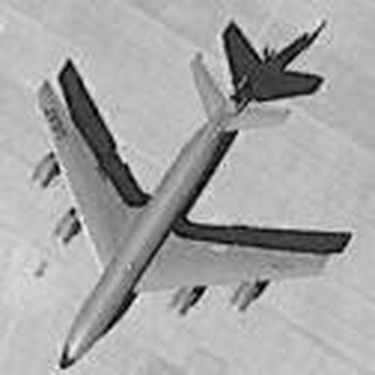airplane: (10, 9, 360, 372)
